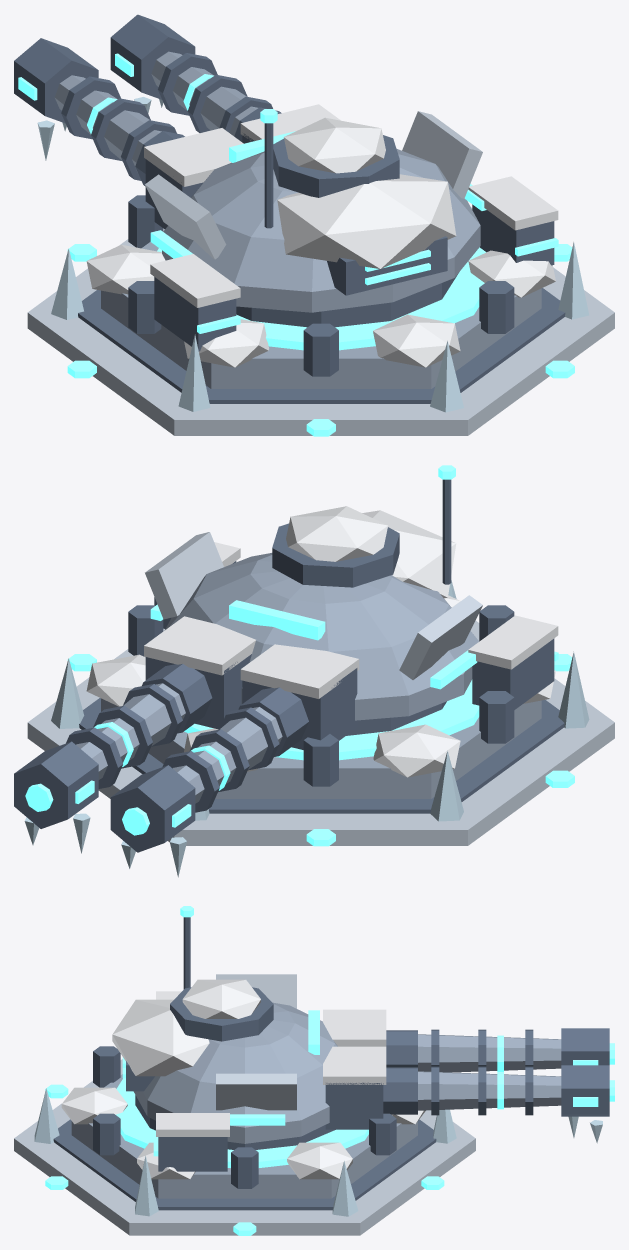
The model's file is turret_lvl4.glb.
3 views of the same model, one above another, from view 1: azimuth 30°, elevation 25°; view 2: azimuth 150°, elevation 25°; view 3: azimuth 270°, elevation 25° (orthographic). The views are drawn at different scales.
Visible parts, largest first — view 1: BaseTier_56, Dome_05, SnowBlanket_63, Base_01, BaseSkirt_02, SnowCupola_76, Neon_BaseRing_03, MuzzleBrake_29, MuzzleBrake_15, Pivot_04, ArmorPlate_42, SnowMound_68 (+33 smaller); view 2: Dome_05, BaseTier_56, Base_01, BaseSkirt_02, MuzzleBrake_15, MuzzleBrake_29, SnowCupola_76, SnowCap_08, SnowCap_22, Cupola_55, ArmorPlate_42, SnowMound_66 (+31 smaller); view 3: BaseTier_56, Dome_05, Base_01, BaseSkirt_02, SnowBlanket_63, BarrelTube_24, BarrelTube_10, ArmorPlate_42, Neon_BaseRing_03, SnowCupola_76, Cupola_55, BarrelMount_21 (+25 smaller).
Boxes of the visible parts, x1=… form: BaseTier_56: x1=27, y1=207, x2=614, y2=435; Dome_05: x1=162, y1=149, x2=480, y2=312; SnowBlanket_63: x1=277, y1=174, x2=456, y2=268; Base_01: x1=101, y1=242, x2=541, y2=388; BaseSkirt_02: x1=78, y1=288, x2=565, y2=403; SnowCupola_76: x1=284, y1=117, x2=385, y2=173; Neon_BaseRing_03: x1=157, y1=247, x2=486, y2=350; MuzzleBrake_29: x1=110, y1=14, x2=195, y2=99; MuzzleBrake_15: x1=14, y1=38, x2=98, y2=123; Pivot_04: x1=236, y1=273, x2=458, y2=327; ArmorPlate_42: x1=402, y1=111, x2=482, y2=198; SnowMound_68: x1=373, y1=314, x2=460, y2=367; Dome_05: x1=164, y1=553, x2=478, y2=720; BaseTier_56: x1=27, y1=620, x2=614, y2=845; Base_01: x1=101, y1=656, x2=541, y2=798; BaseSkirt_02: x1=79, y1=698, x2=564, y2=813; MuzzleBrake_15: x1=110, y1=765, x2=195, y2=852; MuzzleBrake_29: x1=14, y1=741, x2=98, y2=828; SnowCupola_76: x1=286, y1=506, x2=388, y2=561; SnowCap_08: x1=240, y1=644, x2=359, y2=698; SnowCap_22: x1=144, y1=616, x2=255, y2=675; Cupola_55: x1=272, y1=523, x2=399, y2=587; ArmorPlate_42: x1=145, y1=532, x2=223, y2=619; SnowMound_66: x1=373, y1=724, x2=460, y2=777; BaseTier_56: x1=14, y1=1059, x2=475, y2=1235; Dome_05: x1=133, y1=1002, x2=337, y2=1143; Base_01: x1=71, y1=1074, x2=417, y2=1198; BaseSkirt_02: x1=53, y1=1119, x2=436, y2=1210; SnowBlanket_63: x1=112, y1=999, x2=209, y2=1076; BarrelTube_24: x1=418, y1=1071, x2=561, y2=1110; BarrelTube_10: x1=418, y1=1034, x2=561, y2=1072; ArmorPlate_42: x1=216, y1=1073, x2=296, y2=1110; Neon_BaseRing_03: x1=115, y1=1078, x2=368, y2=1167; SnowCupola_76: x1=182, y1=979, x2=260, y2=1018; Cupola_55: x1=170, y1=987, x2=273, y2=1041; BarrelMount_21: x1=325, y1=1082, x2=383, y2=1129.
Size of the model in its own units: 4.92 by 2.49 by 6.51.
